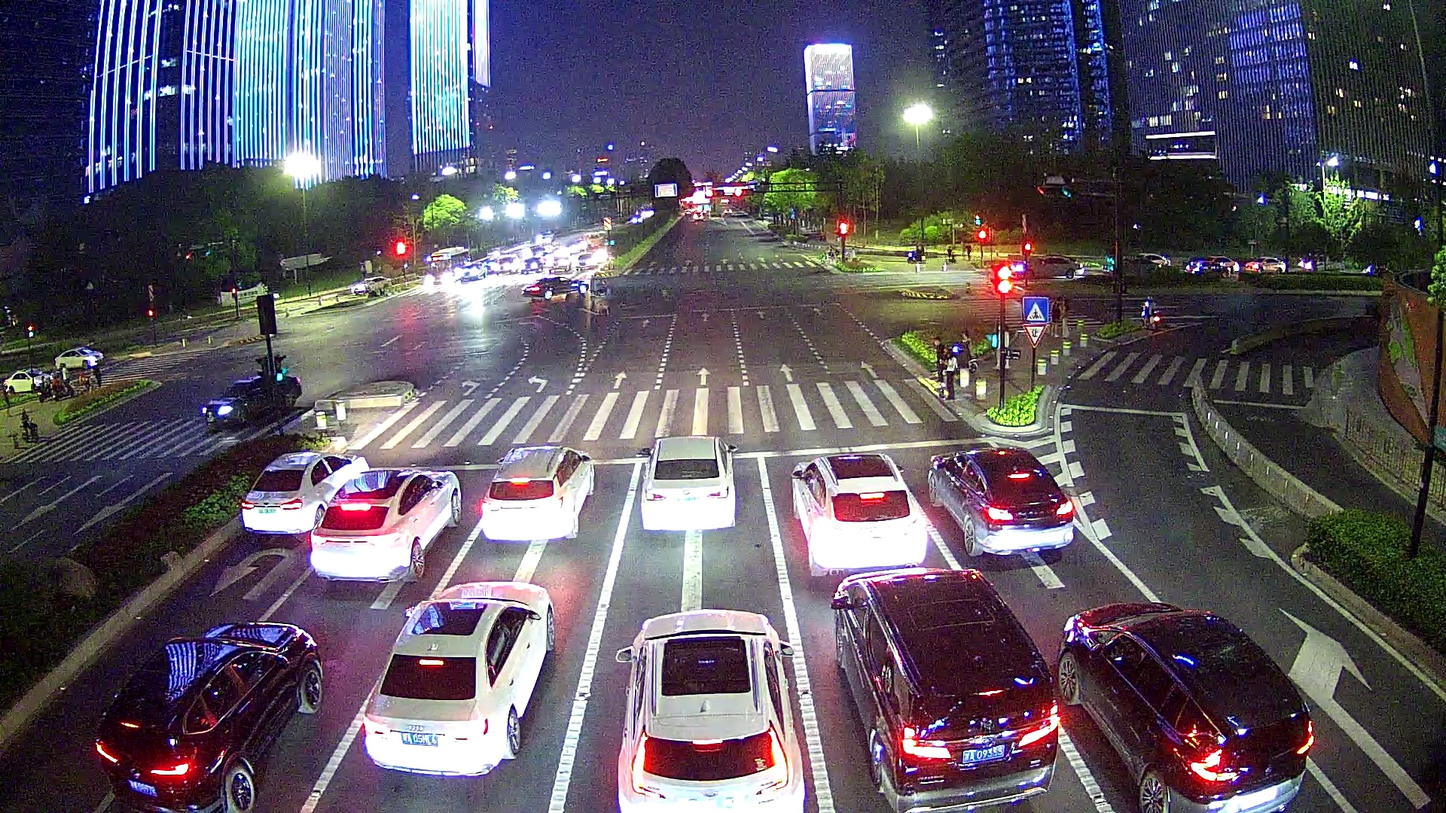person: (944, 348, 959, 405), (930, 335, 947, 382)
vehicle: (828, 566, 1060, 810), (1054, 599, 1316, 808), (90, 615, 326, 810), (609, 607, 809, 811), (358, 579, 560, 779), (306, 464, 462, 586), (789, 445, 930, 577), (926, 442, 1075, 559), (475, 441, 596, 544), (236, 450, 371, 534), (633, 431, 739, 534), (194, 365, 303, 428), (51, 344, 108, 370), (2, 367, 54, 391)
